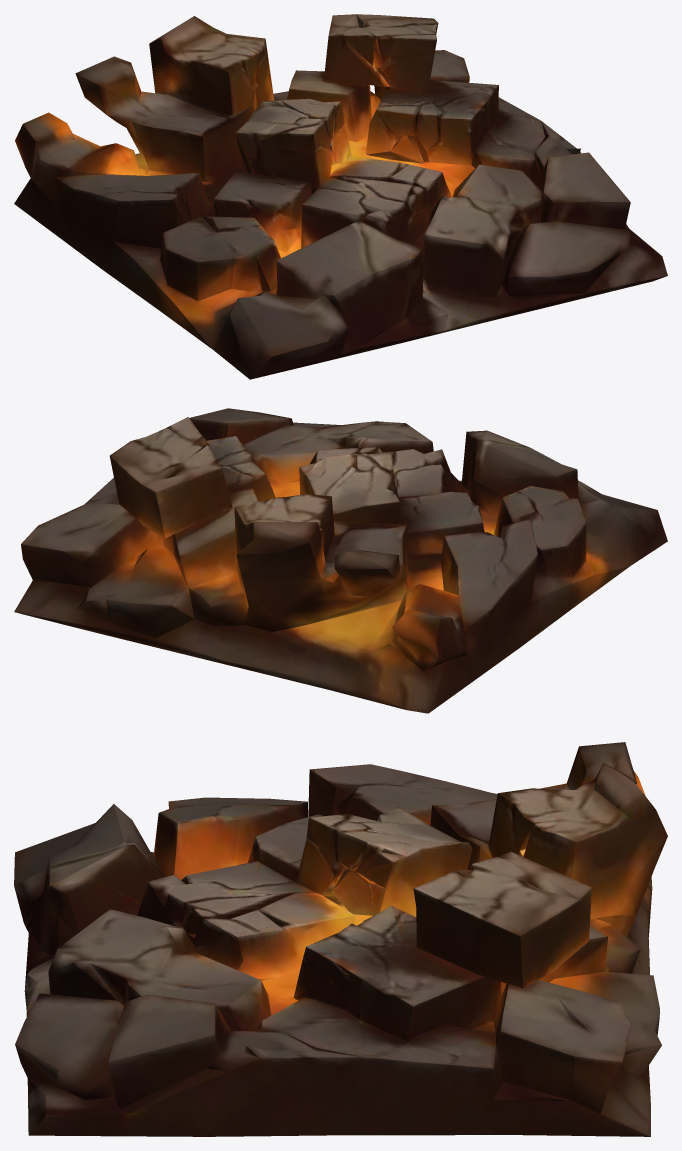
The model's file is m2CollapsePlatform.glb.
3 renders of one model, top to bottom at view 1: azimuth 30°, elevation 25°; view 2: azimuth 150°, elevation 25°; view 3: azimuth 270°, elevation 25°, orthographic. The views are drawn at different scales.
Visible parts, largest first — view 1: model; view 2: model; view 3: model.
Boxes of the visible parts, box(x1,y1,x2,y2) form: model: box(14, 14, 667, 379); model: box(14, 408, 667, 713); model: box(14, 742, 667, 1136).
Size of the model in its own units: 1.89 by 0.6346 by 1.9.
Materials: 1 (1 with a texture image).
